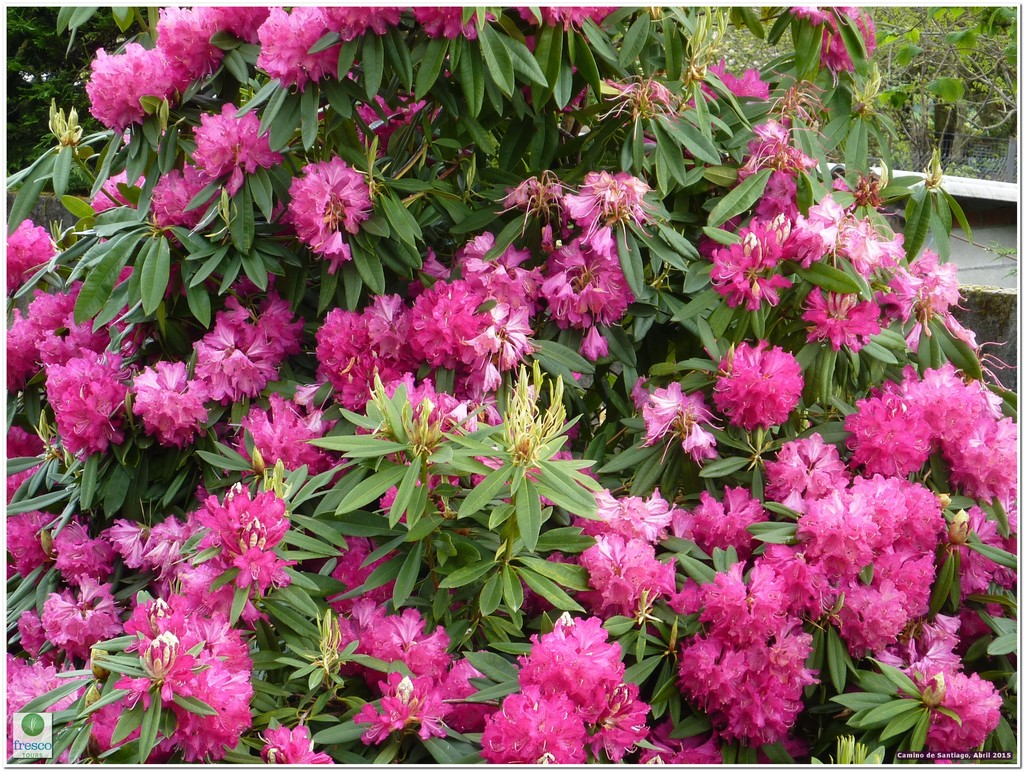Tree: (4, 7, 1016, 763)
